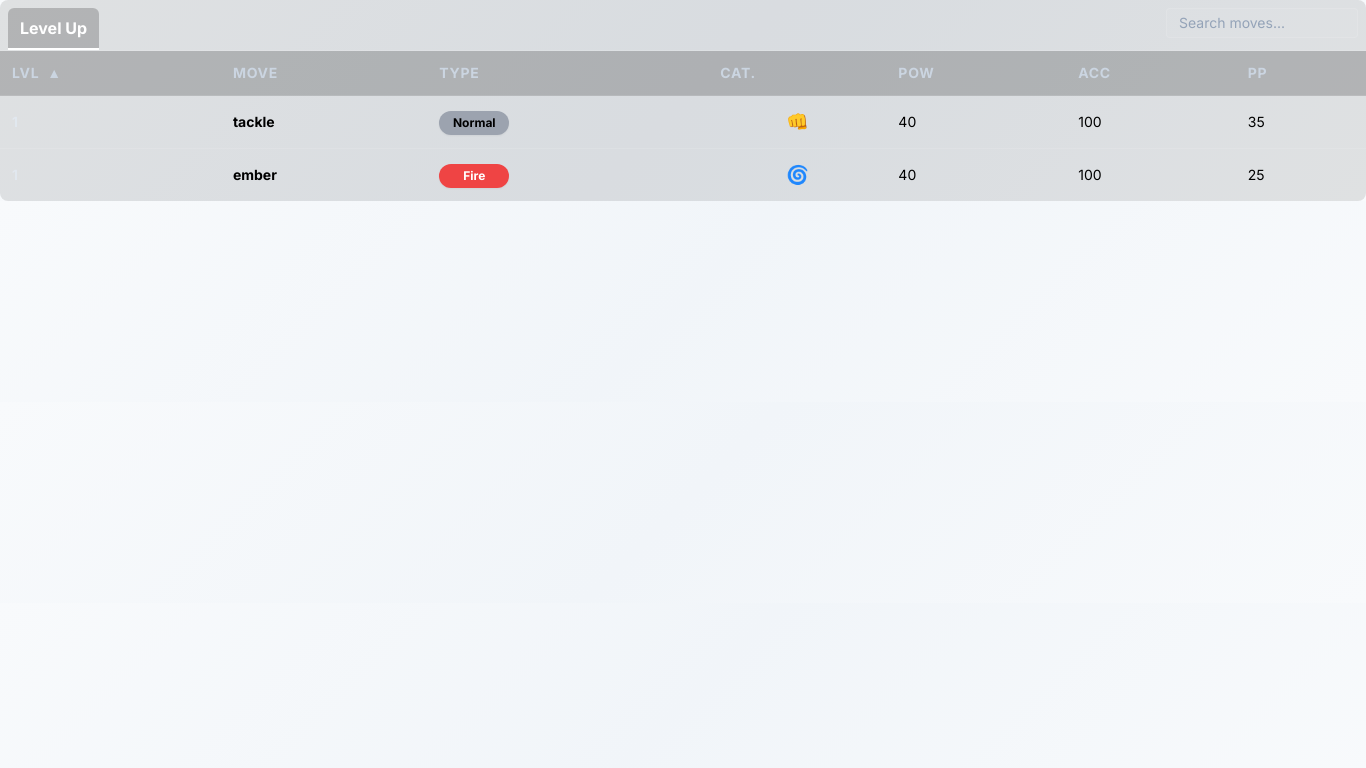
Scenario: MoveList Stale Memoization Bug › should update the list when search query changes
Expected: the button "tackle" is shown, left=233, top=112, right=415, bottom=132
Expected: the button "ember" is shown, left=233, top=165, right=415, bottom=185
// Type 'ember' into the search box
Type "ember" into the field labelled "Search moves...". click: (1262,23)
box: left=1166, top=8, right=1358, bottom=38
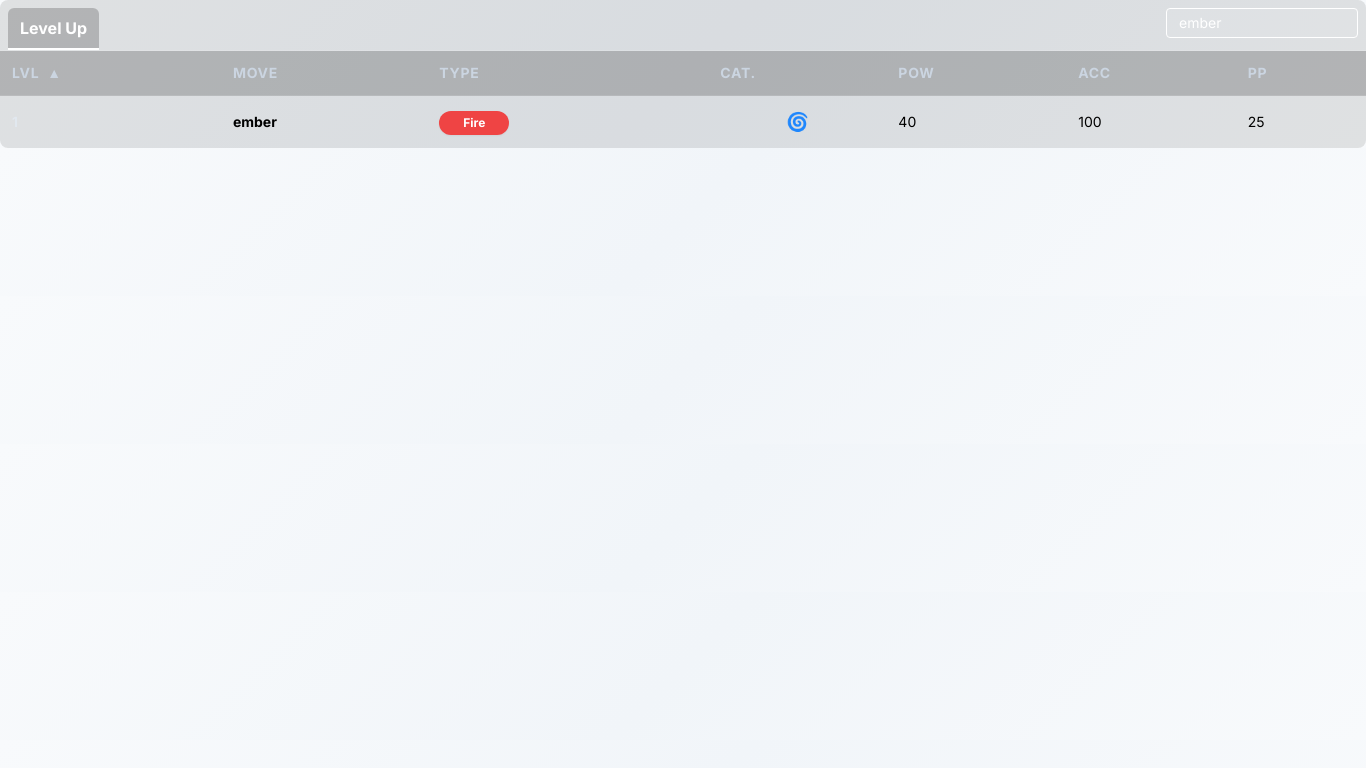
Expected: the button "ember" is shown, left=233, top=112, right=415, bottom=132
Now the button "tackle" is gone
